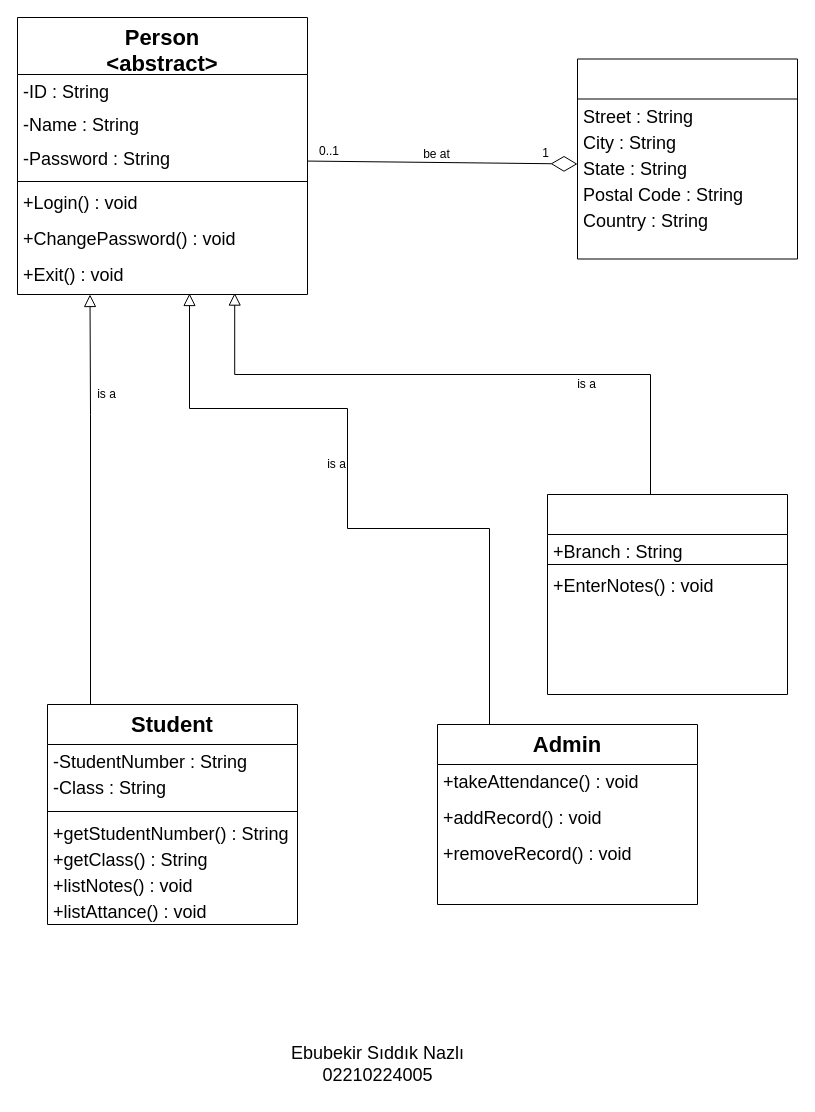
The diagram is 815 pixels wide and 1112 high, and some of its shapes have lost their labels. Here are the shapes that lost their labels. From the top down, the box of each, then its label:
(576, 58, 798, 259): School
(546, 494, 788, 694): Teacher
